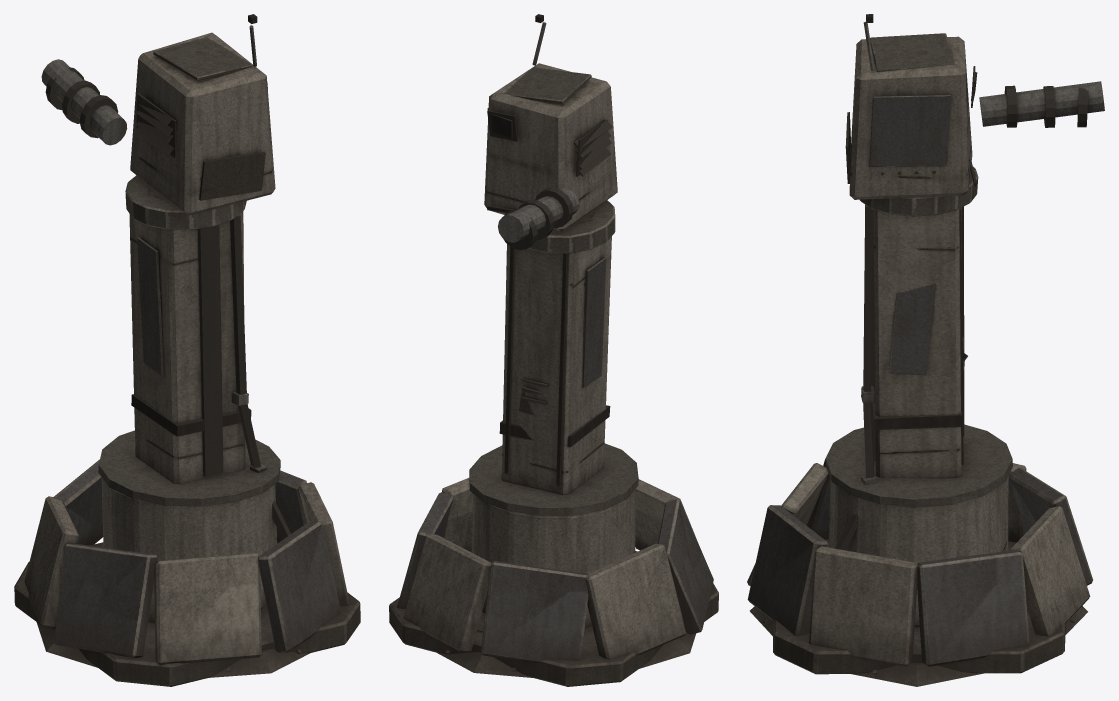
The model's file is ord_sentry_tower_wreck.fbx.
The picture shows the model from 3 angles, left to right: view 1: azimuth 30°, elevation 25°; view 2: azimuth 150°, elevation 25°; view 3: azimuth 270°, elevation 25°; orthographic projection. The views are drawn at different scales.
Visible parts, largest first — view 1: base_bar, turret_bar, barrel_bar; view 2: base_bar, turret_bar, barrel_bar; view 3: base_bar, turret_bar, barrel_bar.
Part boxes in pixels (<box>): base_bar: <box>14,175,360,686</box>; turret_bar: <box>130,14,275,215</box>; barrel_bar: <box>41,59,127,145</box>; base_bar: <box>389,200,718,686</box>; turret_bar: <box>484,14,617,231</box>; barrel_bar: <box>498,187,579,250</box>; base_bar: <box>747,166,1092,686</box>; turret_bar: <box>845,14,977,199</box>; barrel_bar: <box>979,81,1104,127</box>.
Bounding box in the file's own units: 1016 × 2244 × 1074.
2 materials, 2 textured.
